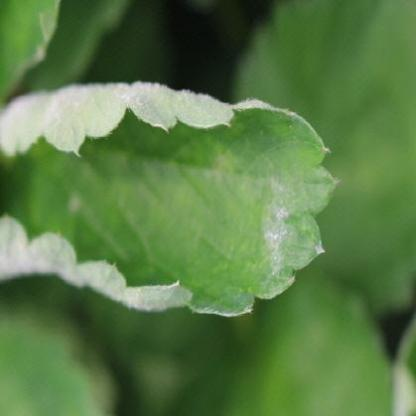Strawberry_Powdery_Mildew_Leaf: (0, 80, 339, 318)
